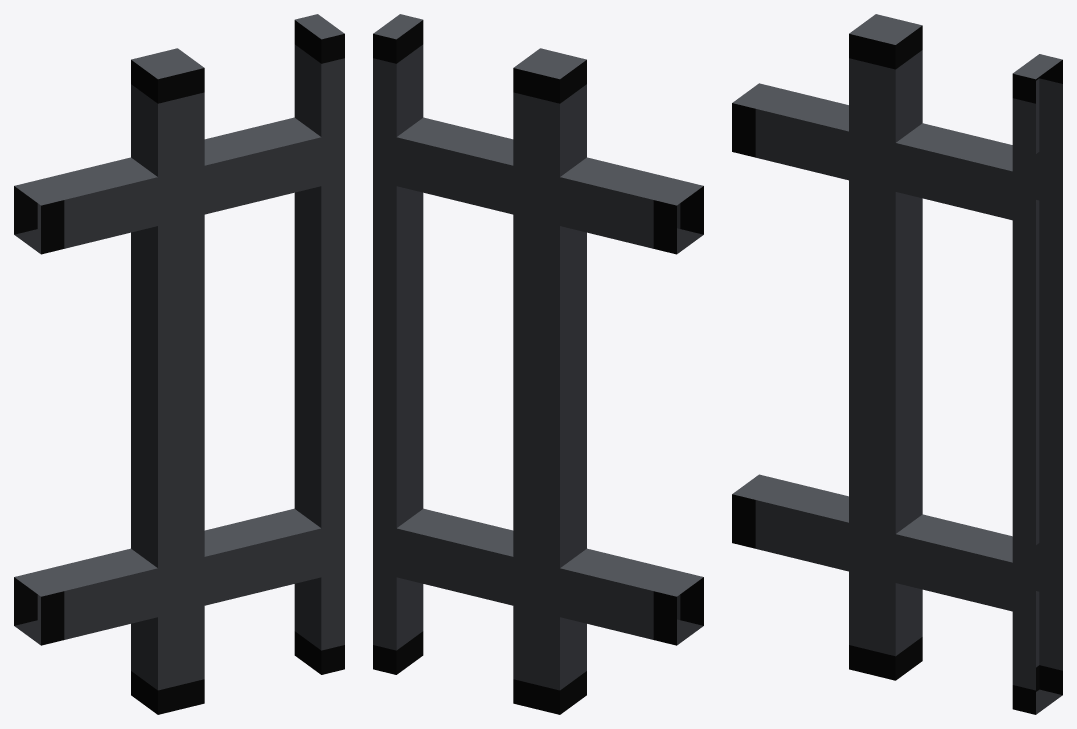
Rendered from fence_rail.obj.
The picture shows the model from 3 angles, left to right: view 1: azimuth 30°, elevation 25°; view 2: azimuth 150°, elevation 25°; view 3: azimuth 330°, elevation 25°; orthographic projection.
Parts seen in each view (by area): view 1: fence_rail; view 2: fence_rail; view 3: fence_rail.
Part boxes in pixels (x1,y1,x2,y2): fence_rail: [14, 14, 344, 714]; fence_rail: [373, 14, 703, 714]; fence_rail: [732, 14, 1062, 714].
Bounding box in the file's own units: 13 × 26 × 2.
Materials: 1 (1 with a texture image).
